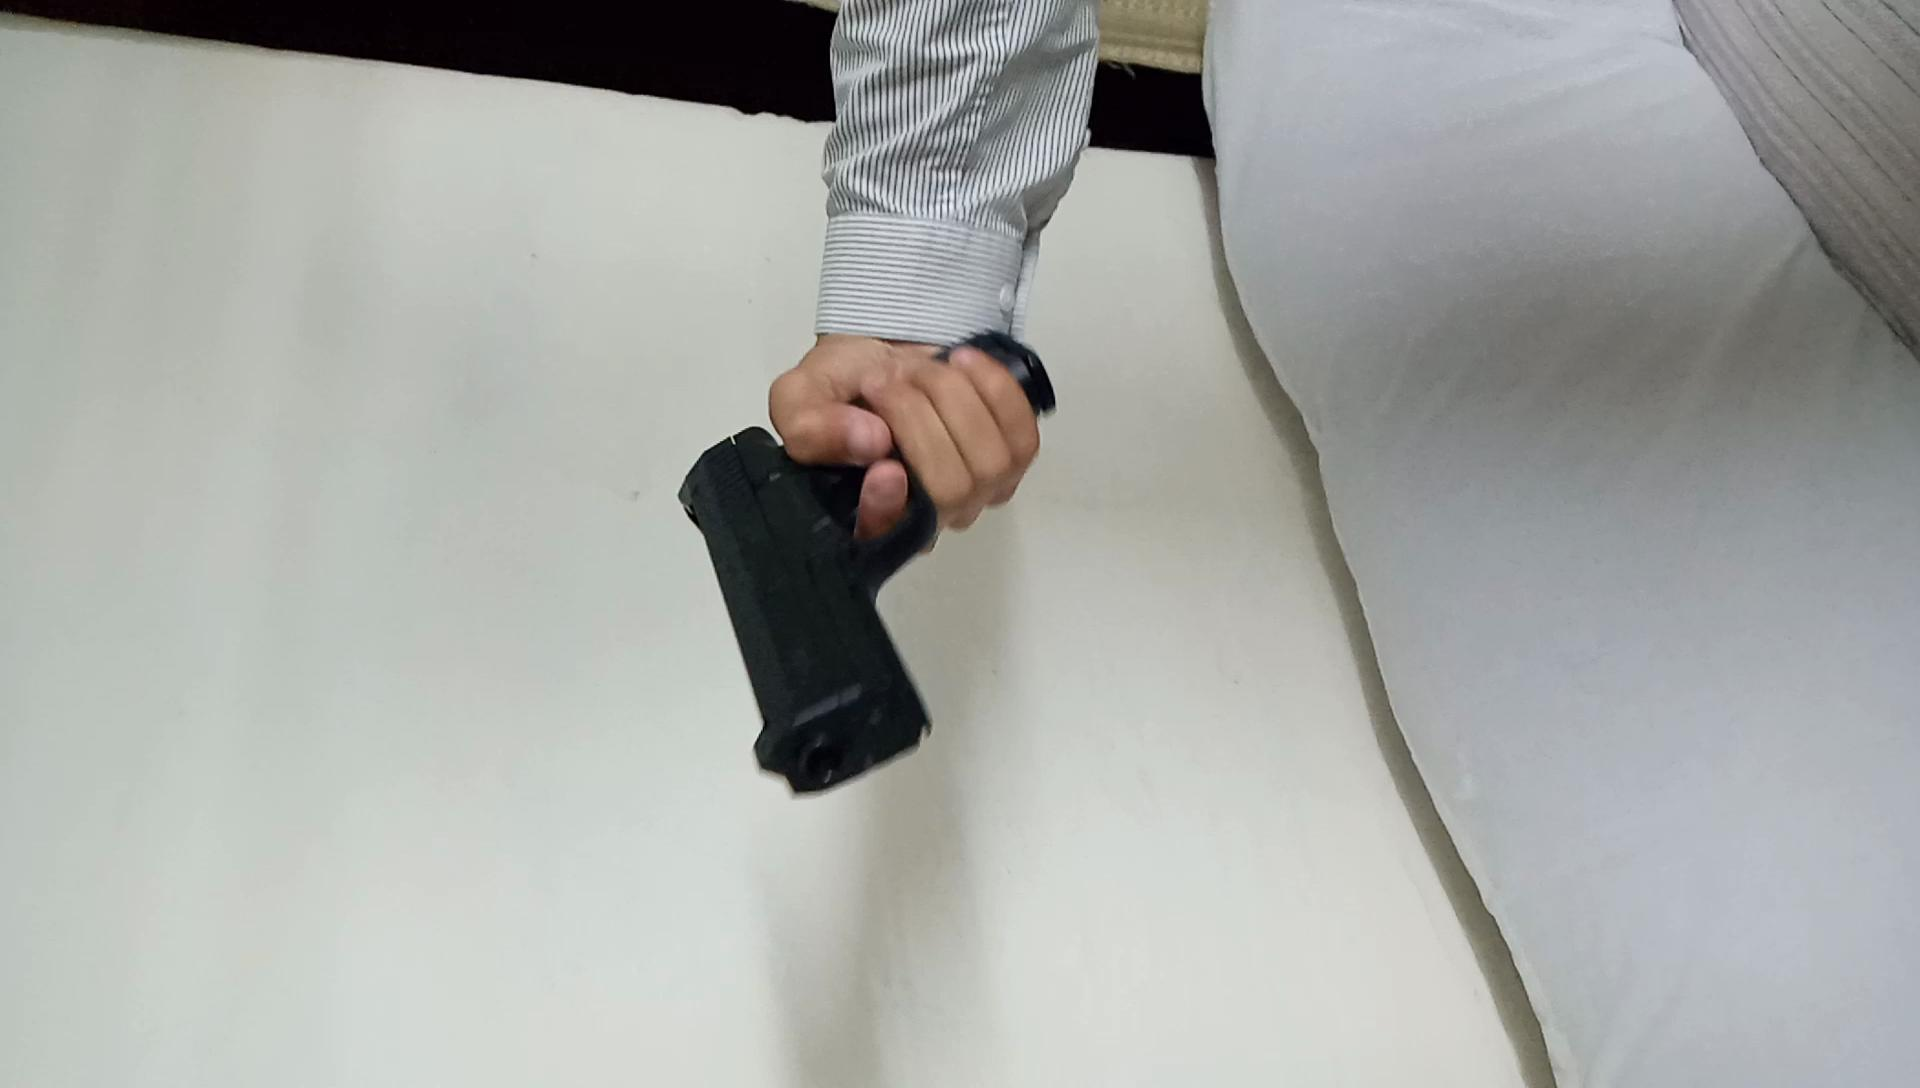weapon: (663, 318, 1063, 811)
